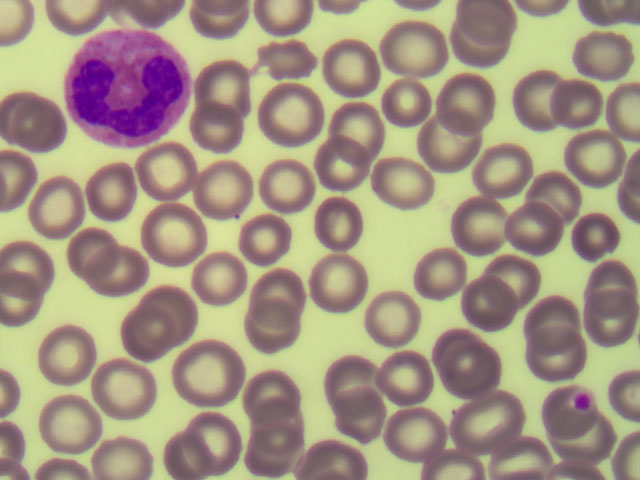RBC: (15, 98, 67, 155), (189, 102, 241, 159), (195, 50, 247, 107), (262, 30, 314, 87), (325, 40, 377, 97), (390, 18, 442, 75), (380, 71, 432, 128), (330, 95, 382, 152), (308, 133, 360, 190), (264, 88, 316, 145), (260, 155, 312, 212), (203, 160, 255, 217), (143, 146, 195, 203), (85, 162, 137, 219), (29, 178, 81, 235), (63, 223, 115, 280), (96, 245, 148, 302), (145, 208, 197, 265), (190, 249, 242, 306), (240, 209, 292, 266), (307, 199, 359, 256), (378, 155, 430, 212), (418, 121, 470, 178), (442, 67, 494, 124), (450, 22, 502, 79), (464, 1, 516, 58), (508, 64, 560, 121), (543, 69, 595, 126), (577, 29, 629, 86), (569, 127, 621, 184), (529, 170, 581, 227), (501, 204, 553, 261), (453, 202, 505, 259), (478, 140, 530, 197), (412, 247, 464, 304), (461, 273, 513, 330), (487, 245, 539, 302), (526, 291, 578, 348), (535, 332, 587, 389), (584, 295, 636, 352), (583, 253, 635, 310), (571, 208, 623, 265), (468, 393, 520, 450), (441, 342, 493, 399), (429, 321, 481, 378), (368, 291, 420, 348), (319, 259, 371, 316), (250, 266, 302, 323), (247, 292, 299, 349), (143, 288, 195, 345), (118, 305, 170, 362), (40, 327, 92, 384), (96, 359, 148, 416), (44, 395, 96, 452), (95, 423, 147, 480), (157, 423, 209, 480), (186, 418, 238, 475), (181, 346, 233, 403), (246, 368, 298, 425), (253, 402, 305, 459), (242, 423, 294, 480), (306, 423, 358, 480), (334, 386, 386, 443), (328, 347, 380, 404), (378, 348, 430, 405), (396, 402, 448, 459), (557, 415, 609, 472), (539, 382, 591, 439), (260, 1, 312, 57), (1, 237, 52, 294)
WBC: (66, 34, 189, 148)
